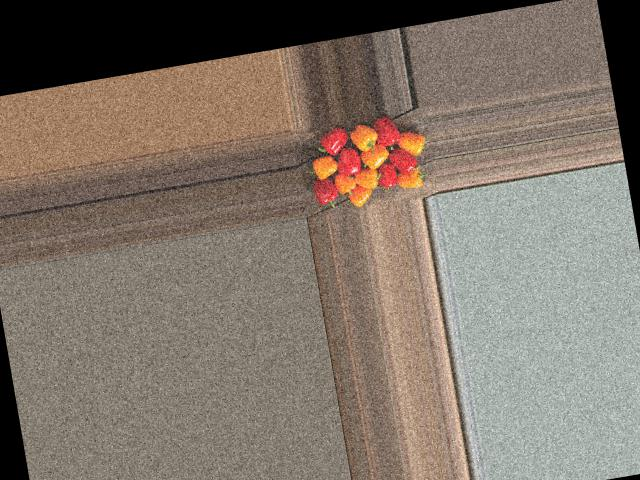bell_pepper: (388, 124, 428, 159)
